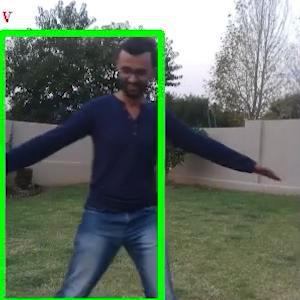land: (0, 43, 231, 299)
